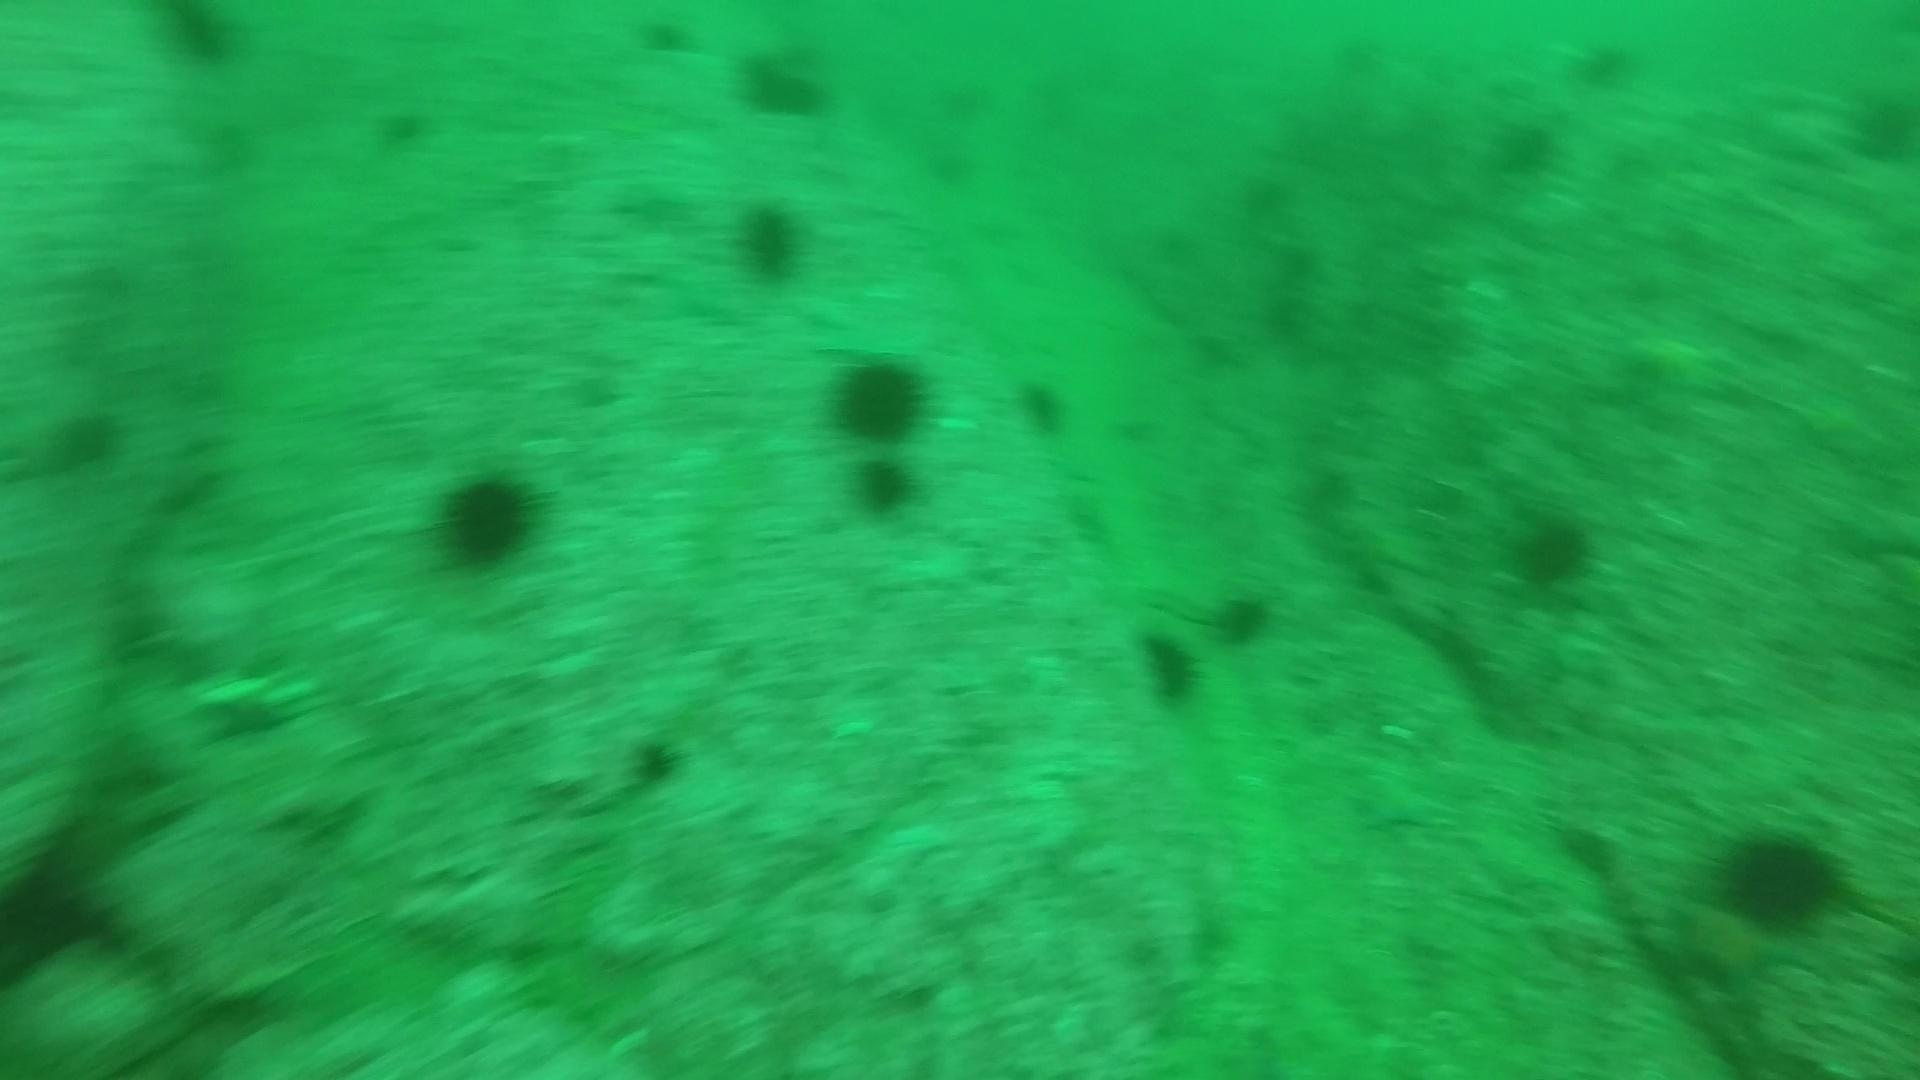echinus: (1712, 822, 1851, 934), (429, 462, 549, 574), (824, 349, 936, 447), (1505, 505, 1600, 592), (727, 195, 814, 286), (141, 1, 252, 71), (41, 400, 129, 477), (1844, 80, 1919, 169), (1133, 625, 1207, 709), (843, 448, 924, 521), (1487, 111, 1564, 181), (744, 69, 833, 127), (1204, 583, 1278, 651), (1567, 32, 1643, 94), (1010, 372, 1073, 436), (638, 7, 705, 65), (371, 98, 436, 154)
starfish: (1664, 893, 1803, 997), (1345, 760, 1458, 836)
